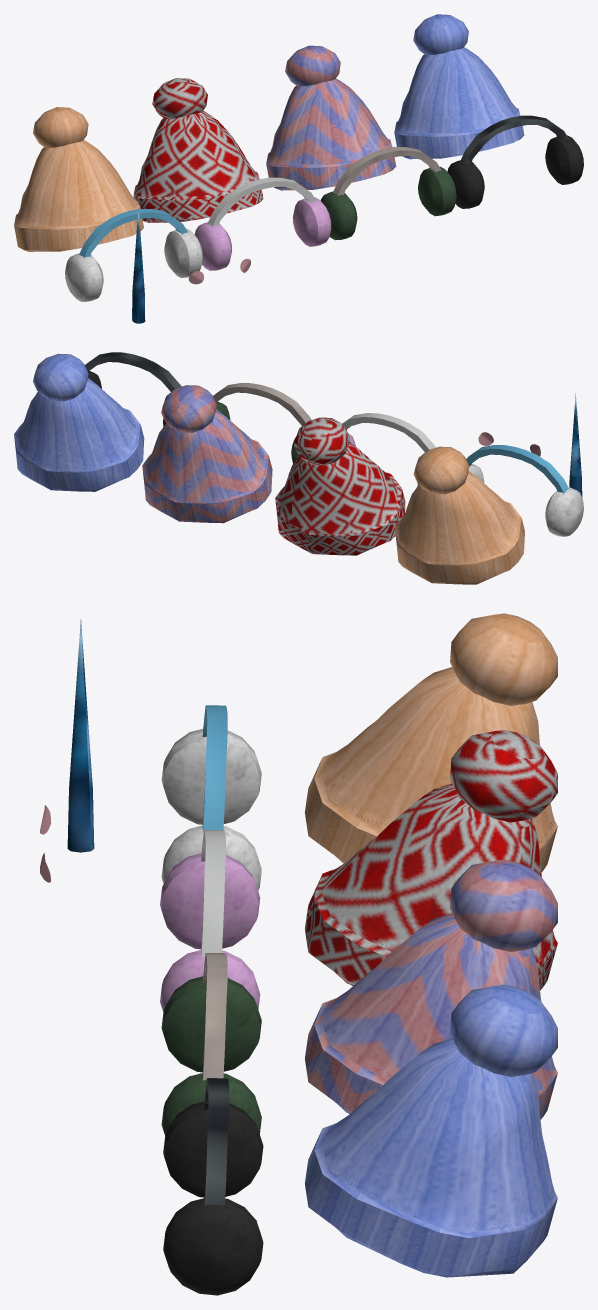
File: gorilla_tag_winter_cosmetics_2022.glb
3 renders of one model, top to bottom at view 1: azimuth 30°, elevation 25°; view 2: azimuth 150°, elevation 25°; view 3: azimuth 270°, elevation 25°, orthographic. The views are drawn at different scales.
Visible parts, largest first — view 1: pompomhatorange, pompomhatblue, pompomhatstripe, pompomhatpattern, earmuffswhite, earmuffspink, earmuffsblack, earmuffsgreen, icicle; view 2: pompomhatblue, pompomhatstripe, pompomhatorange, pompomhatpattern, earmuffswhite, earmuffsgreen, earmuffsblack, earmuffspink, icicle; view 3: pompomhatblue, pompomhatpattern, pompomhatstripe, pompomhatorange, earmuffsblack, earmuffsgreen, earmuffswhite, earmuffspink, icicle.
Part boxes in pixels (x1,y1,x2,y2): pompomhatorange: (14,107,143,251); pompomhatblue: (394,14,524,159); pompomhatstripe: (266,45,396,190); pompomhatpattern: (133,78,263,222); earmuffswhite: (65,209,202,301); earmuffspink: (194,177,331,270); earmuffsblack: (447,115,583,208); earmuffsgreen: (320,147,456,240); icicle: (132,207,145,323); pompomhatblue: (14,353,144,491); pompomhatstripe: (142,385,272,523); pompomhatorange: (395,446,524,584); pompomhatpattern: (275,417,405,555); earmuffswhite: (466,445,583,536); earmuffsgreen: (213,383,311,463); earmuffsblack: (85,352,181,426); earmuffspink: (342,413,436,485); icicle: (569,393,582,497); pompomhatblue: (305,984,557,1277); pompomhatpattern: (305,730,557,990); pompomhatstripe: (305,859,557,1119); pompomhatorange: (304,613,557,872); earmuffsblack: (163,1078,263,1295); earmuffsgreen: (161,953,261,1135); earmuffswhite: (161,705,261,890); earmuffspink: (160,830,260,1011); icicle: (67,619,94,852).
Bounding box in the file's own units: 1.4 × 0.3371 × 0.6201.
Materials: 1 (1 with a texture image).
